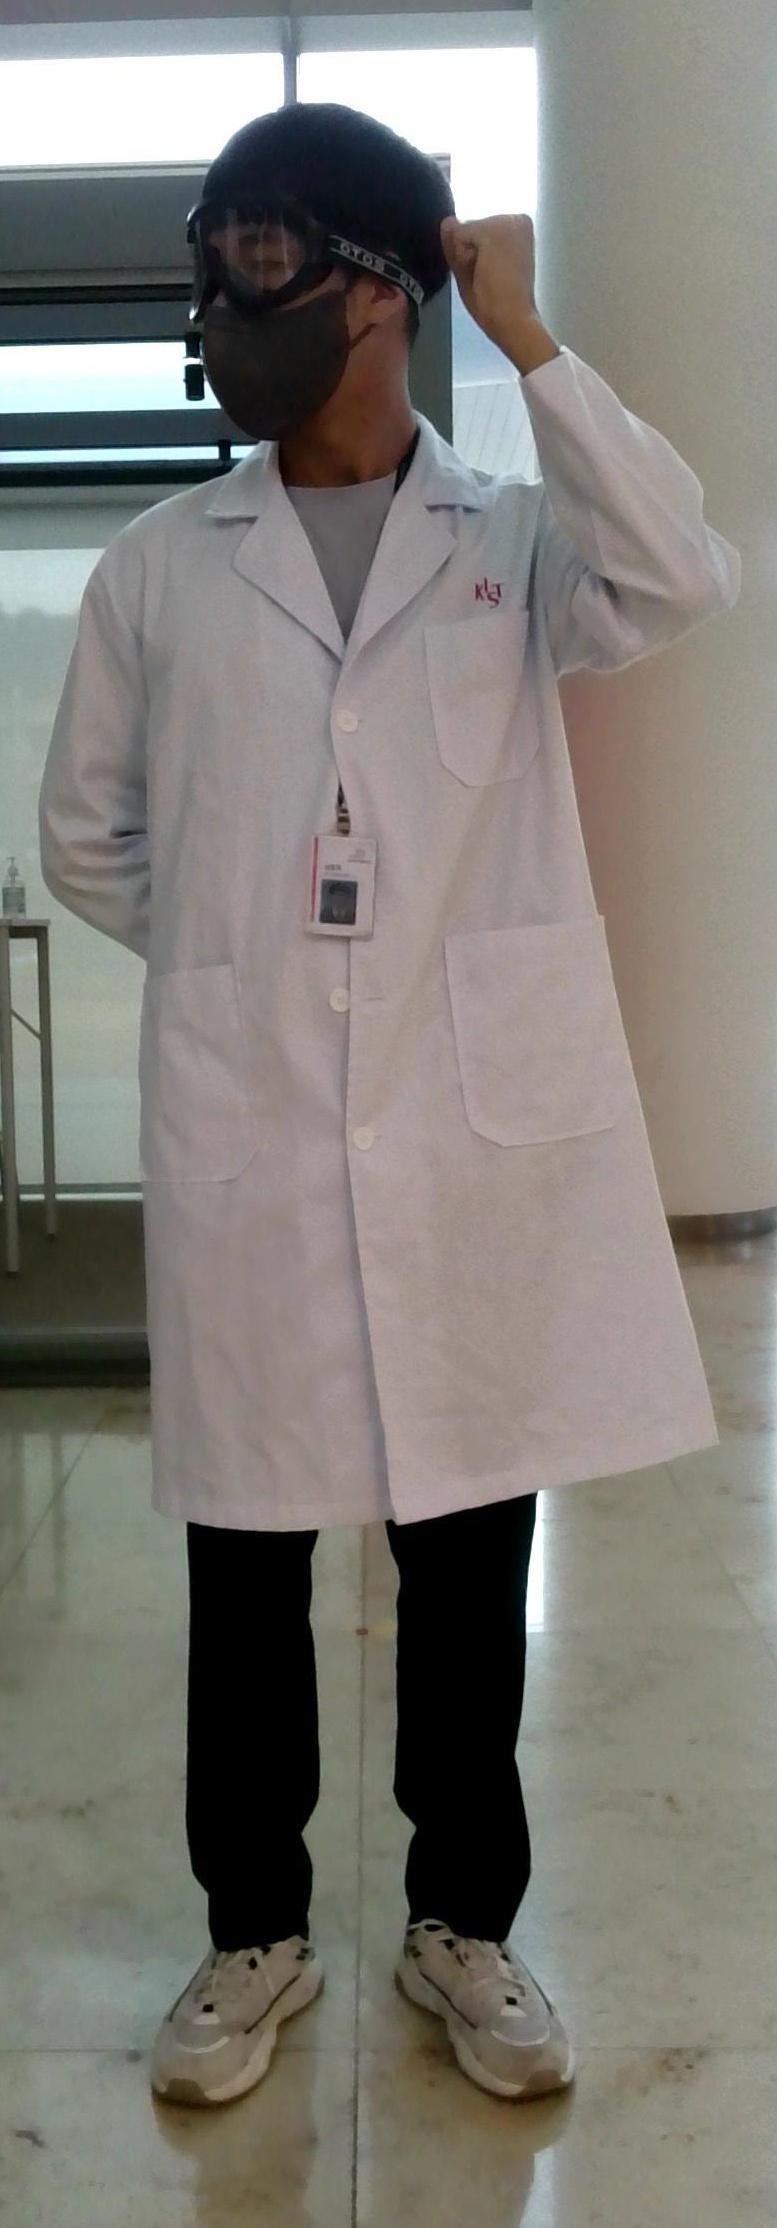lab_coat: (31, 512, 719, 1492)
